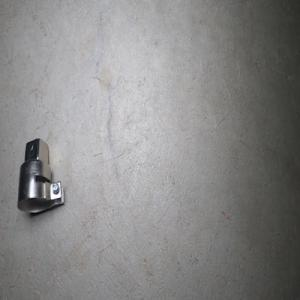MetalPart: (16, 137, 64, 213)
